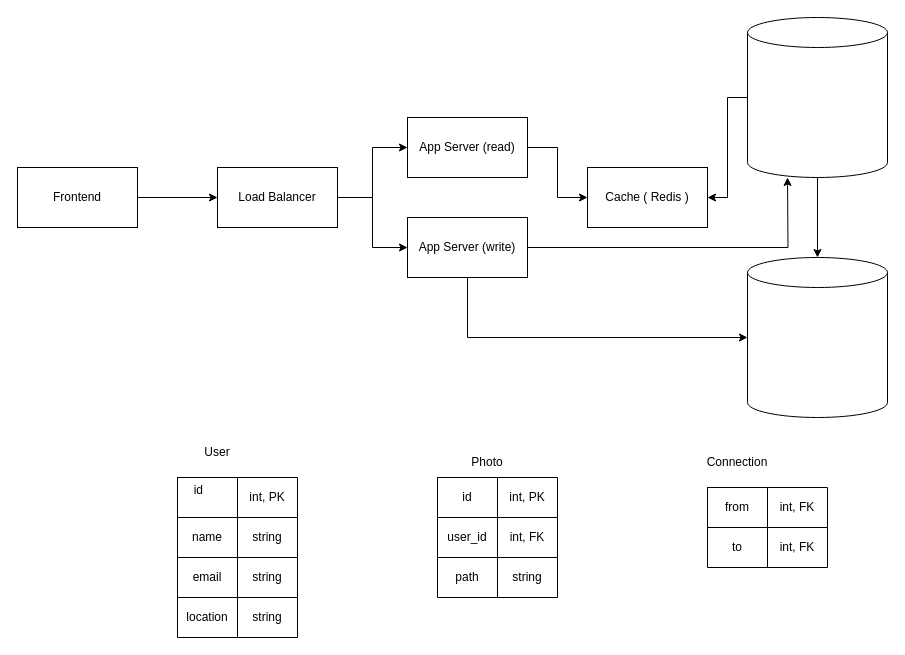
Image size: 905x655. Some labels were removed from this diagram. The centre of each missing label's shape, as x and y in pixels:
Blob Storage S3: the point at 817,337
MetaData DB: the point at 817,97
